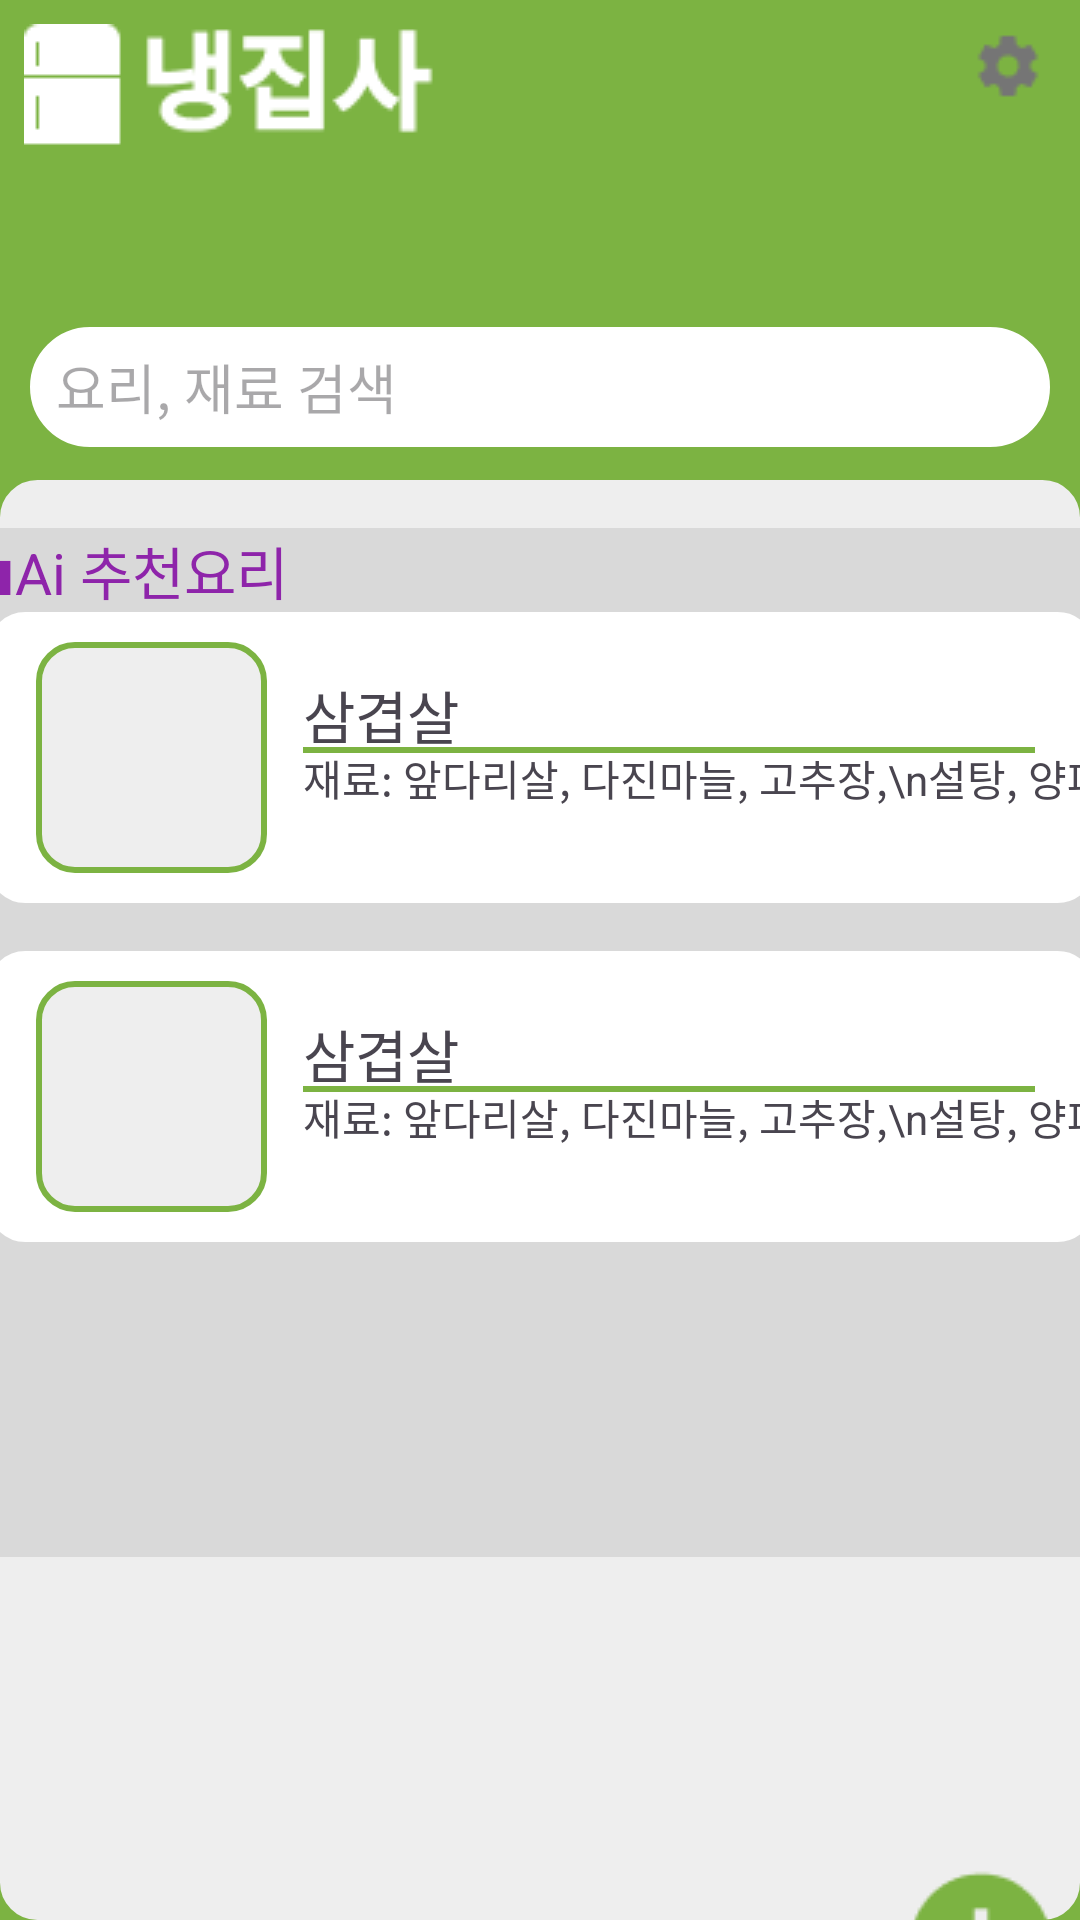

Icons on this 1080px x 1920px Android screen, each with its box as (x1, y1, x2, y2):
setting: (979, 36, 1037, 96)
